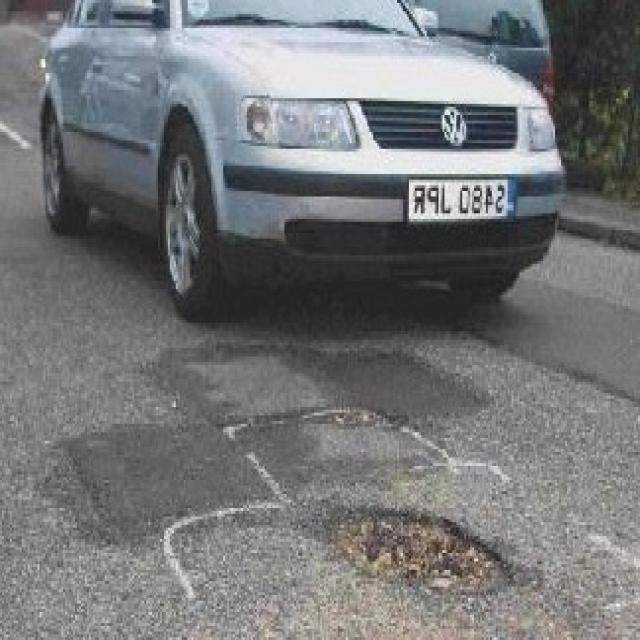road-pothole: (338, 505, 522, 596)
